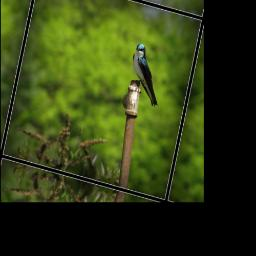Swallow: (124, 41, 169, 109)
